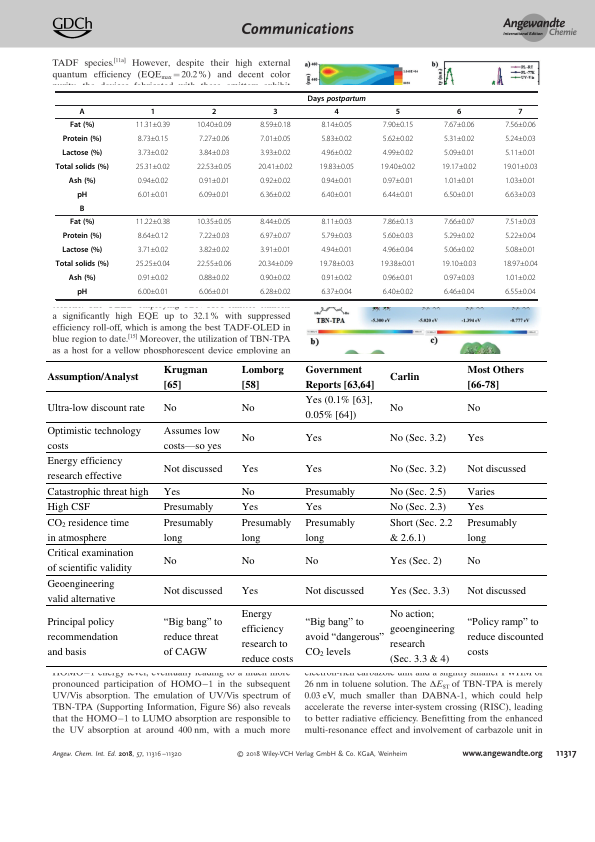borderless: (46, 359, 547, 666), (55, 90, 537, 299)
cell: (389, 607, 456, 666), (305, 613, 385, 659), (466, 613, 545, 658), (46, 615, 119, 658), (241, 607, 294, 666), (163, 613, 223, 658), (46, 424, 142, 452), (46, 546, 135, 575), (46, 516, 130, 544), (46, 454, 123, 483), (305, 362, 375, 391), (305, 393, 374, 422), (46, 577, 116, 605), (389, 516, 454, 544), (466, 362, 525, 391), (163, 424, 222, 453), (466, 516, 518, 544), (163, 516, 214, 544), (241, 516, 292, 544), (305, 516, 356, 544), (46, 485, 149, 498), (163, 362, 209, 391), (46, 370, 139, 384), (46, 401, 146, 414), (241, 362, 285, 391), (389, 584, 451, 598), (466, 584, 527, 598), (163, 584, 223, 598), (305, 584, 365, 598), (389, 431, 447, 445), (389, 500, 447, 514), (466, 462, 527, 475), (163, 462, 223, 475), (389, 462, 447, 475), (389, 485, 447, 498), (163, 500, 214, 514), (389, 554, 443, 567), (305, 485, 356, 498), (46, 500, 91, 514), (55, 162, 110, 172), (55, 259, 110, 269), (307, 94, 367, 103), (389, 370, 420, 384), (61, 148, 103, 158), (61, 245, 103, 255), (62, 134, 102, 144), (62, 231, 102, 241), (466, 485, 496, 498), (68, 176, 96, 186), (68, 273, 96, 283), (466, 431, 485, 445), (466, 500, 485, 514), (69, 120, 95, 130), (69, 217, 95, 227), (305, 431, 323, 445), (241, 500, 259, 514), (305, 500, 323, 514), (241, 584, 259, 598), (135, 121, 171, 128), (196, 121, 232, 128), (135, 163, 171, 170), (196, 163, 232, 170), (257, 163, 293, 170), (319, 163, 355, 170), (380, 163, 416, 170), (441, 163, 477, 170), (502, 163, 538, 170), (135, 218, 171, 225), (196, 218, 232, 225), (135, 260, 171, 267), (196, 260, 232, 267), (257, 260, 293, 267), (319, 260, 355, 267), (380, 260, 416, 267), (441, 260, 477, 267), (502, 260, 538, 267), (241, 462, 259, 475), (305, 462, 323, 475), (163, 485, 181, 498), (259, 121, 292, 128), (320, 121, 353, 128), (504, 121, 537, 128), (259, 135, 292, 142), (320, 135, 353, 142), (504, 135, 537, 142), (259, 149, 292, 156), (320, 149, 353, 156), (504, 149, 537, 156), (259, 177, 292, 184), (320, 177, 353, 184), (504, 177, 537, 184), (259, 191, 292, 198), (320, 191, 353, 198), (504, 191, 537, 198), (259, 218, 292, 225), (320, 218, 353, 225), (504, 218, 537, 225), (259, 232, 292, 239), (320, 232, 353, 239), (504, 232, 537, 239), (259, 246, 292, 253), (320, 246, 353, 253), (504, 246, 537, 253), (259, 274, 292, 281), (320, 274, 353, 281), (504, 274, 537, 281), (259, 288, 292, 295), (320, 288, 353, 295), (504, 288, 537, 295), (382, 121, 414, 128), (443, 121, 475, 128), (137, 135, 169, 142), (198, 135, 230, 142), (382, 135, 414, 142), (443, 135, 475, 142), (137, 149, 169, 156), (198, 149, 230, 156), (382, 149, 414, 156), (443, 149, 475, 156), (137, 177, 169, 184), (198, 177, 230, 184), (382, 177, 414, 184), (443, 177, 475, 184), (137, 191, 169, 198), (198, 191, 230, 198), (382, 191, 414, 198), (443, 191, 475, 198), (382, 218, 414, 225), (443, 218, 475, 225), (137, 232, 169, 239), (198, 232, 230, 239), (382, 232, 414, 239), (443, 232, 475, 239), (137, 246, 169, 253), (198, 246, 230, 253), (382, 246, 414, 253), (443, 246, 475, 253), (137, 274, 169, 281), (198, 274, 230, 281), (382, 274, 414, 281), (443, 274, 475, 281), (137, 288, 169, 295), (198, 288, 230, 295), (382, 288, 414, 295), (443, 288, 475, 295), (241, 431, 256, 445), (163, 401, 178, 414), (241, 401, 256, 414), (389, 401, 404, 414), (466, 401, 481, 414), (241, 485, 256, 498), (163, 554, 178, 567), (241, 554, 256, 567), (466, 554, 481, 567), (305, 554, 319, 567), (76, 190, 88, 200), (76, 287, 88, 297), (79, 107, 86, 117), (333, 107, 340, 117), (150, 107, 156, 117), (211, 107, 217, 117), (272, 107, 278, 117), (395, 107, 401, 117), (456, 107, 462, 117), (517, 107, 523, 117), (79, 204, 85, 214)
